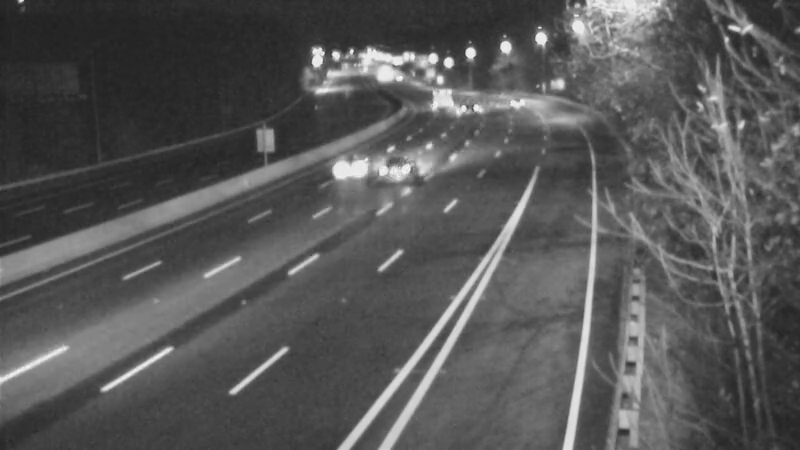vehicle: (353, 130, 433, 210), (305, 131, 385, 211), (484, 71, 534, 121), (410, 70, 460, 120), (443, 84, 493, 134)
